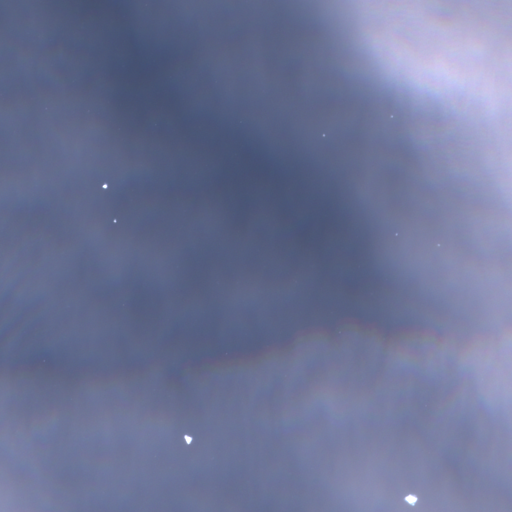Iceberg: (405, 495, 416, 504), (184, 435, 191, 443), (102, 184, 106, 187), (396, 233, 397, 235), (114, 220, 115, 221)
